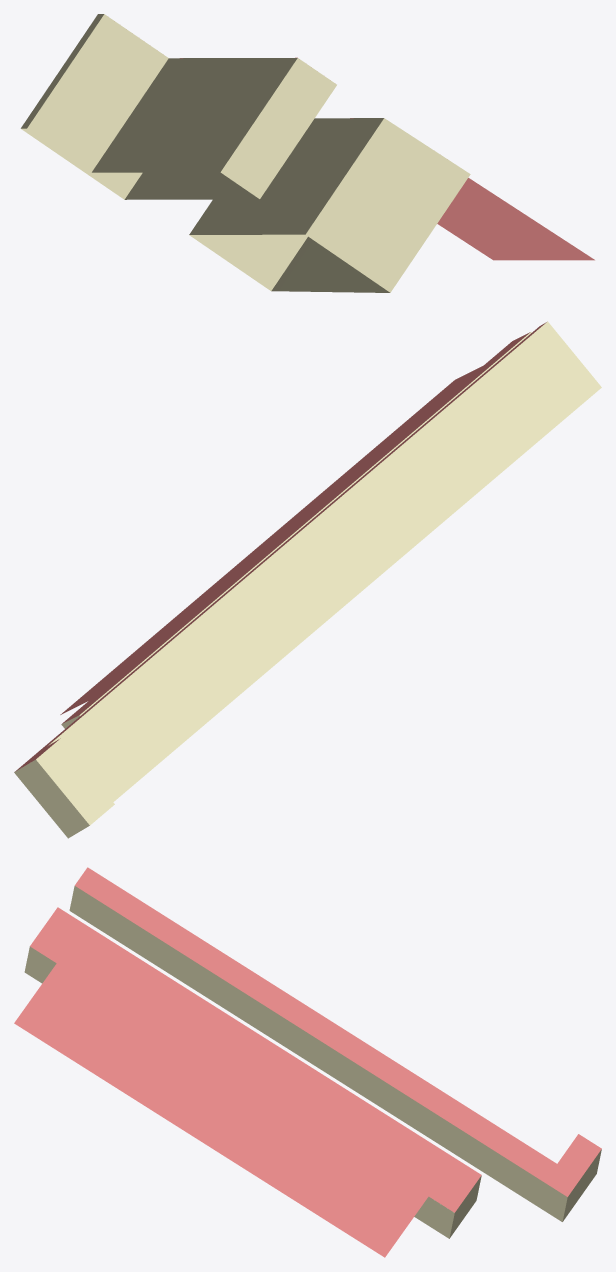
File: tile_106.glb
The picture shows the model from 3 angles, top to bottom: view 1: azimuth 30°, elevation 25°; view 2: azimuth 150°, elevation 25°; view 3: azimuth 270°, elevation 25°; orthographic projection. The views are drawn at different scales.
Parts seen in each view (by area): view 1: Batched_Building_ID_FC874F4B-A994-4033-95E8-2ED5898AA708; view 2: Batched_Building_ID_FC874F4B-A994-4033-95E8-2ED5898AA708; view 3: Batched_Building_ID_FC874F4B-A994-4033-95E8-2ED5898AA708.
Part boxes in pixels (<box>): Batched_Building_ID_FC874F4B-A994-4033-95E8-2ED5898AA708: <box>20,14,594,292</box>; Batched_Building_ID_FC874F4B-A994-4033-95E8-2ED5898AA708: <box>14,321,601,838</box>; Batched_Building_ID_FC874F4B-A994-4033-95E8-2ED5898AA708: <box>14,867,601,1257</box>.
Size of the model in its own units: 25.25 by 24.32 by 44.68.
